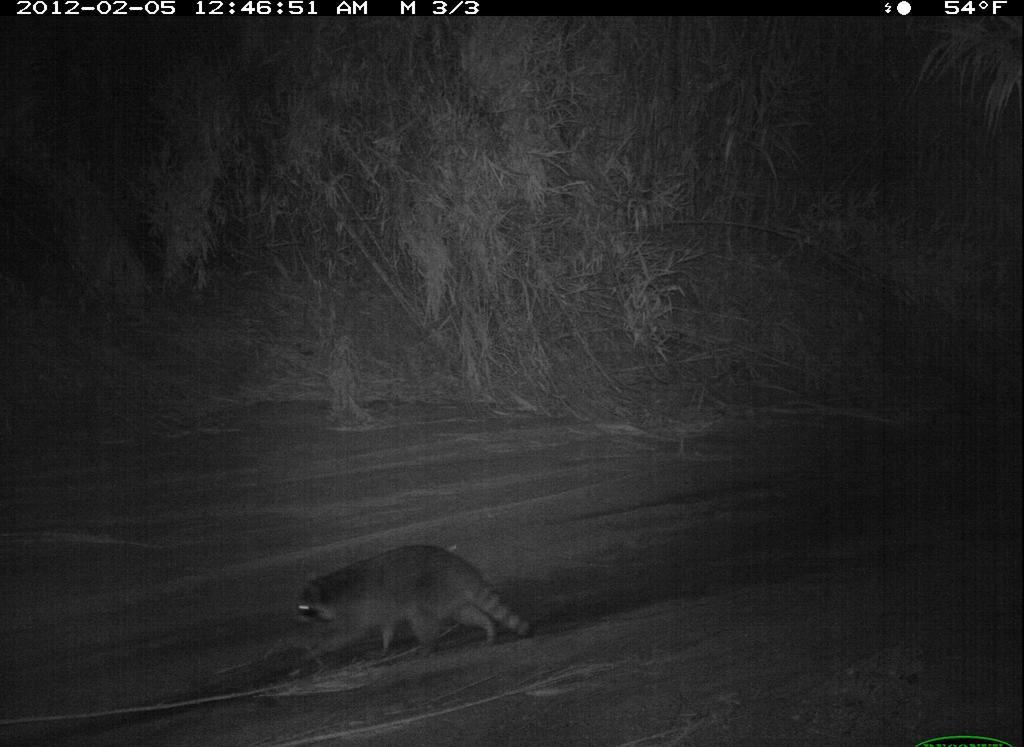raccoon: (285, 530, 536, 679)
